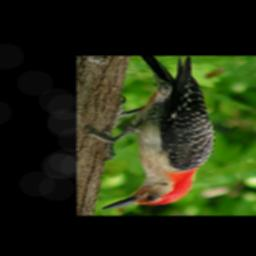Woodpecker: (82, 55, 216, 210)
